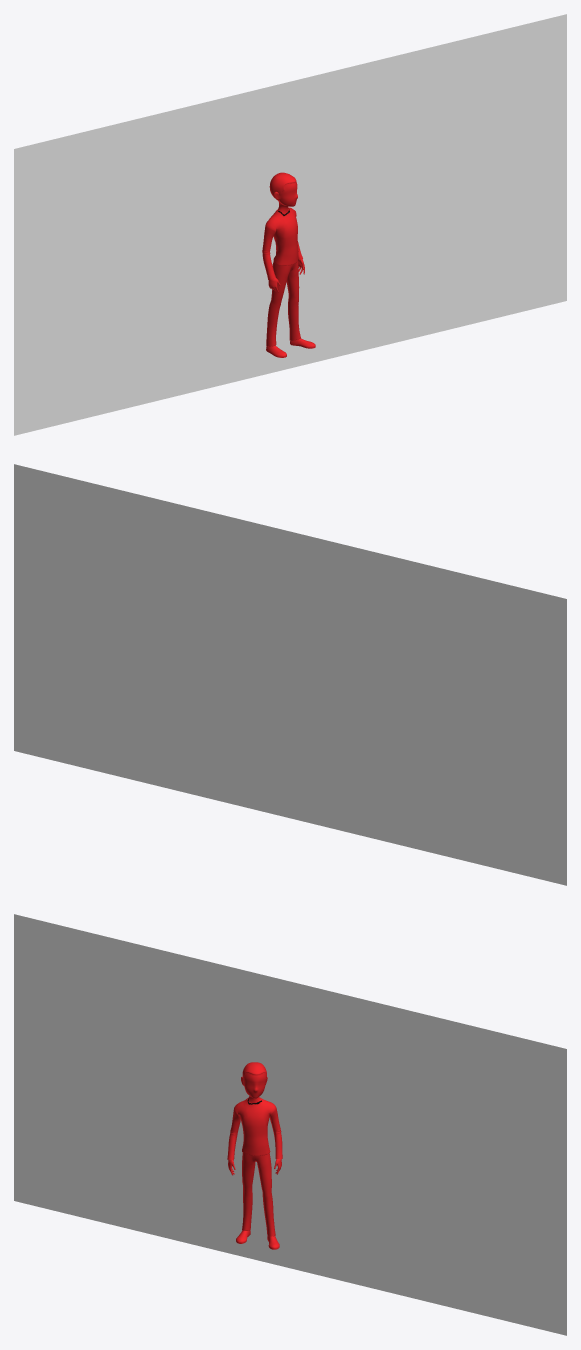
The model's file is chelik.fbx.
3 views of the same model, one above another, from view 1: azimuth 30°, elevation 25°; view 2: azimuth 150°, elevation 25°; view 3: azimuth 330°, elevation 25° (orthographic).
Visible parts, largest first — view 1: root (×2); view 2: root; view 3: root (×2).
Part boxes in pixels (left/top/right/bottom): root (×2): left=14, top=14, right=566, bottom=435; root: left=14, top=464, right=566, bottom=885; root (×2): left=14, top=914, right=566, bottom=1335.
Bounding box in the file's own units: 2.3 × 1.14 × 0.1674.
2 materials, 2 textured.
